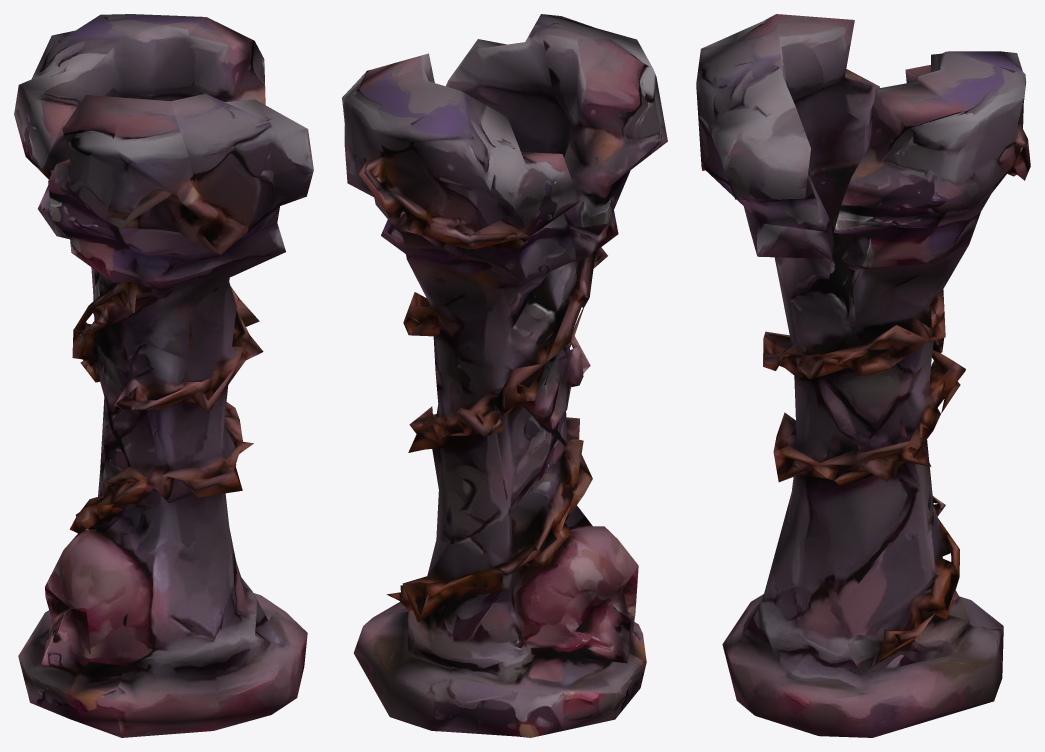
File: lot-pillar-c.glb
The picture shows the model from 3 angles, left to right: view 1: azimuth 30°, elevation 25°; view 2: azimuth 150°, elevation 25°; view 3: azimuth 270°, elevation 25°; orthographic projection.
Visible parts, largest first — view 1: tripo_node_1773c247-1fbc-40f6-ad0f-4de61cc98862; view 2: tripo_node_1773c247-1fbc-40f6-ad0f-4de61cc98862; view 3: tripo_node_1773c247-1fbc-40f6-ad0f-4de61cc98862.
Boxes of the visible parts, x1=… form: tripo_node_1773c247-1fbc-40f6-ad0f-4de61cc98862: x1=14, y1=14, x2=313, y2=737; tripo_node_1773c247-1fbc-40f6-ad0f-4de61cc98862: x1=342, y1=14, x2=667, y2=737; tripo_node_1773c247-1fbc-40f6-ad0f-4de61cc98862: x1=696, y1=14, x2=1030, y2=737.
Bounding box in the file's own units: 0.4242 × 0.9997 × 0.4828.
1 material, 1 textured.
